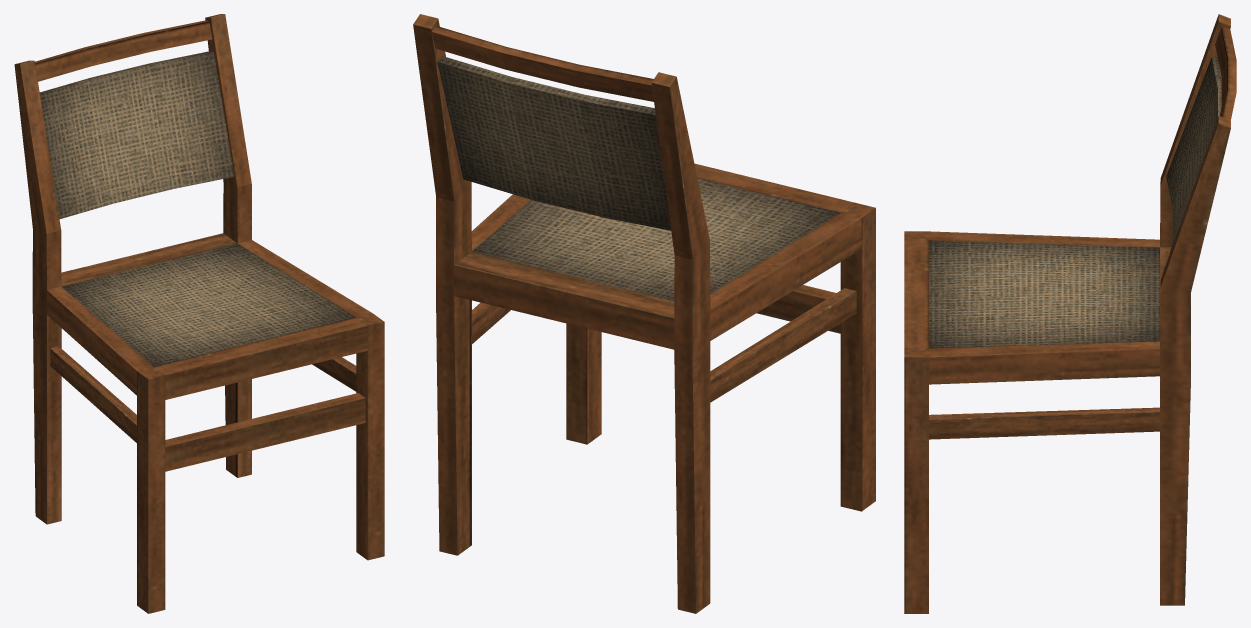
File: chair_wood.glb
3 views of the same model, side by side, from view 1: azimuth 30°, elevation 25°; view 2: azimuth 150°, elevation 25°; view 3: azimuth 270°, elevation 25° (orthographic). The views are drawn at different scales.
Parts seen in each view (by area): view 1: chair_1.001; view 2: chair_1.001; view 3: chair_1.001.
Part boxes in pixels (x1,y1,x2,y2): chair_1.001: [14, 14, 384, 613]; chair_1.001: [413, 14, 875, 613]; chair_1.001: [904, 14, 1236, 613].
Bounding box in the file's own units: 0.3971 × 0.7087 × 0.4429.
1 material, 1 textured.
